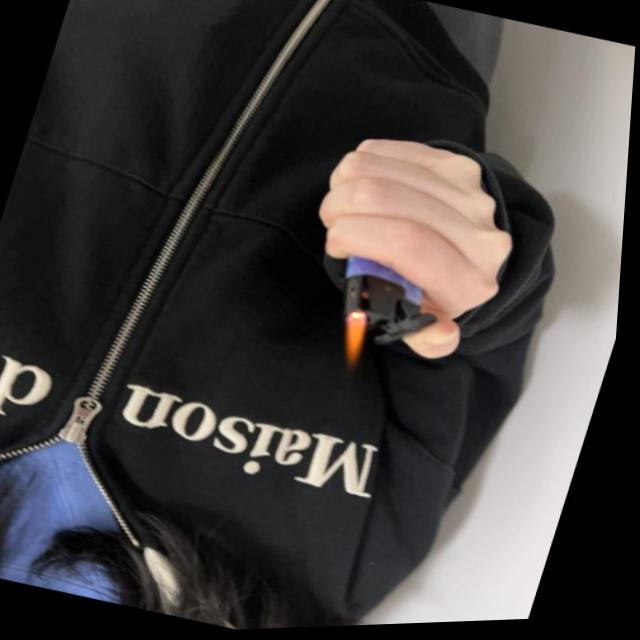Fire: (334, 312, 382, 374)
